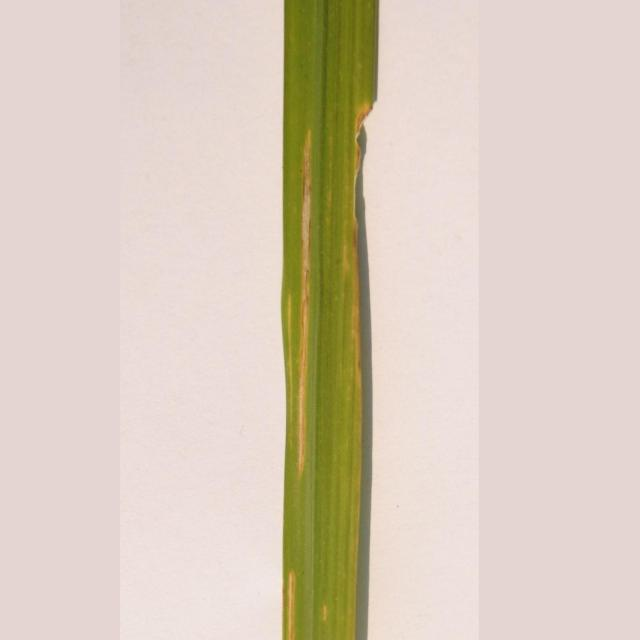leaf blight: (274, 110, 368, 640)
